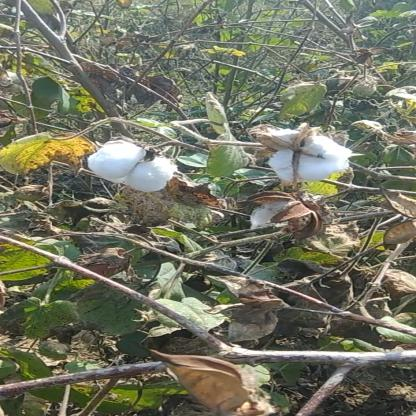cotton_ready: (252, 122, 361, 188), (78, 140, 185, 194)
